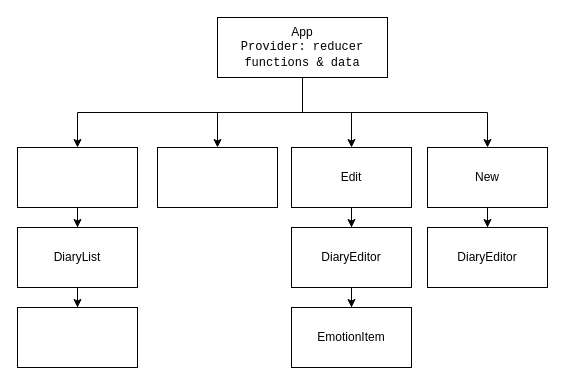
Image size: 565x385. Some labels were removed from this diagram. Each missing label, with the centre of its shape:
Diary: (x=217, y=177)
DiaryItem: (x=77, y=337)
Home: (x=77, y=177)
